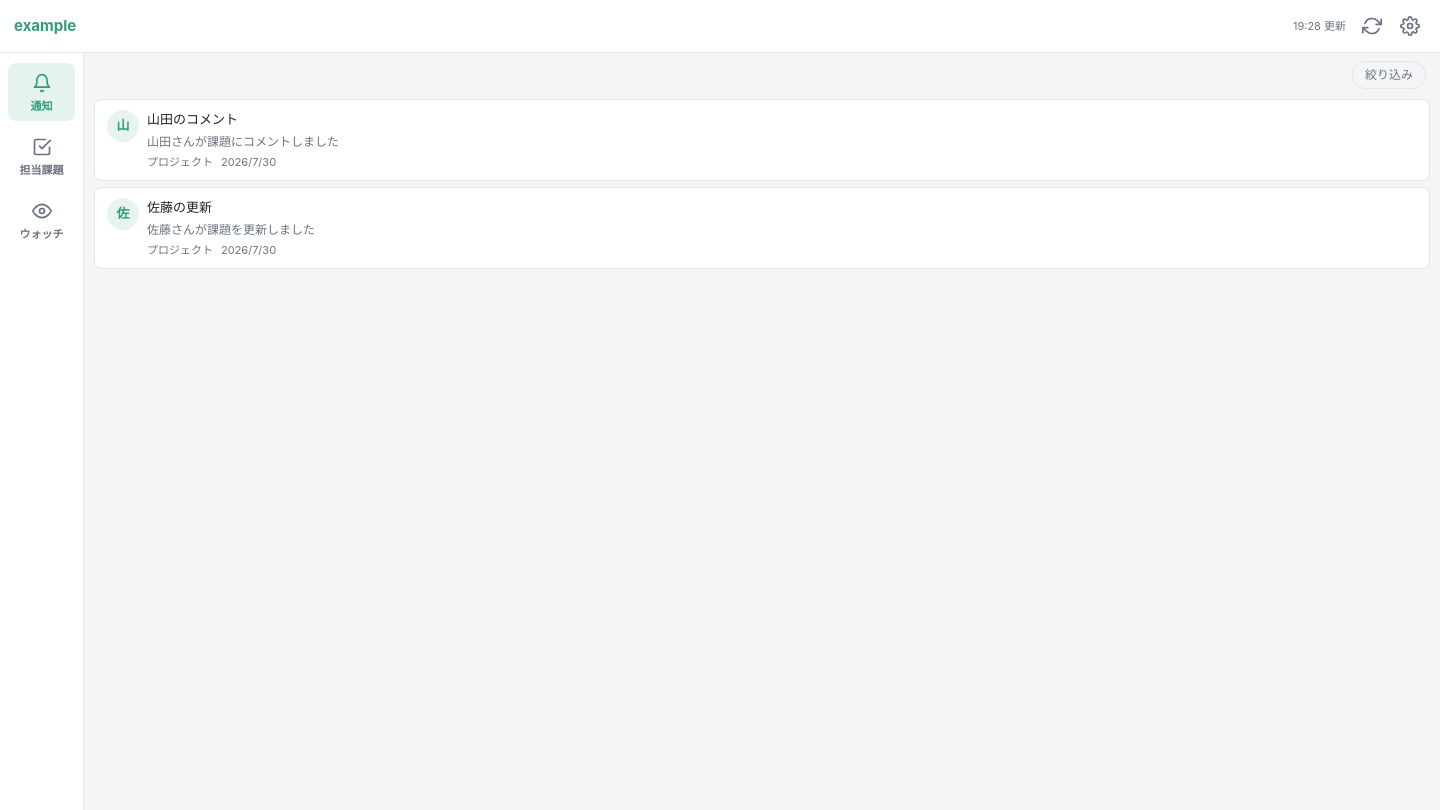
Test: App の通知の絞り込み › 選んだ送信者が一覧から消えても絞り込みが解除されない
The width and height of the screenshot is (1440, 810).
Click the button "絞り込み" at [1389, 75], box [1352,61,1426,89]
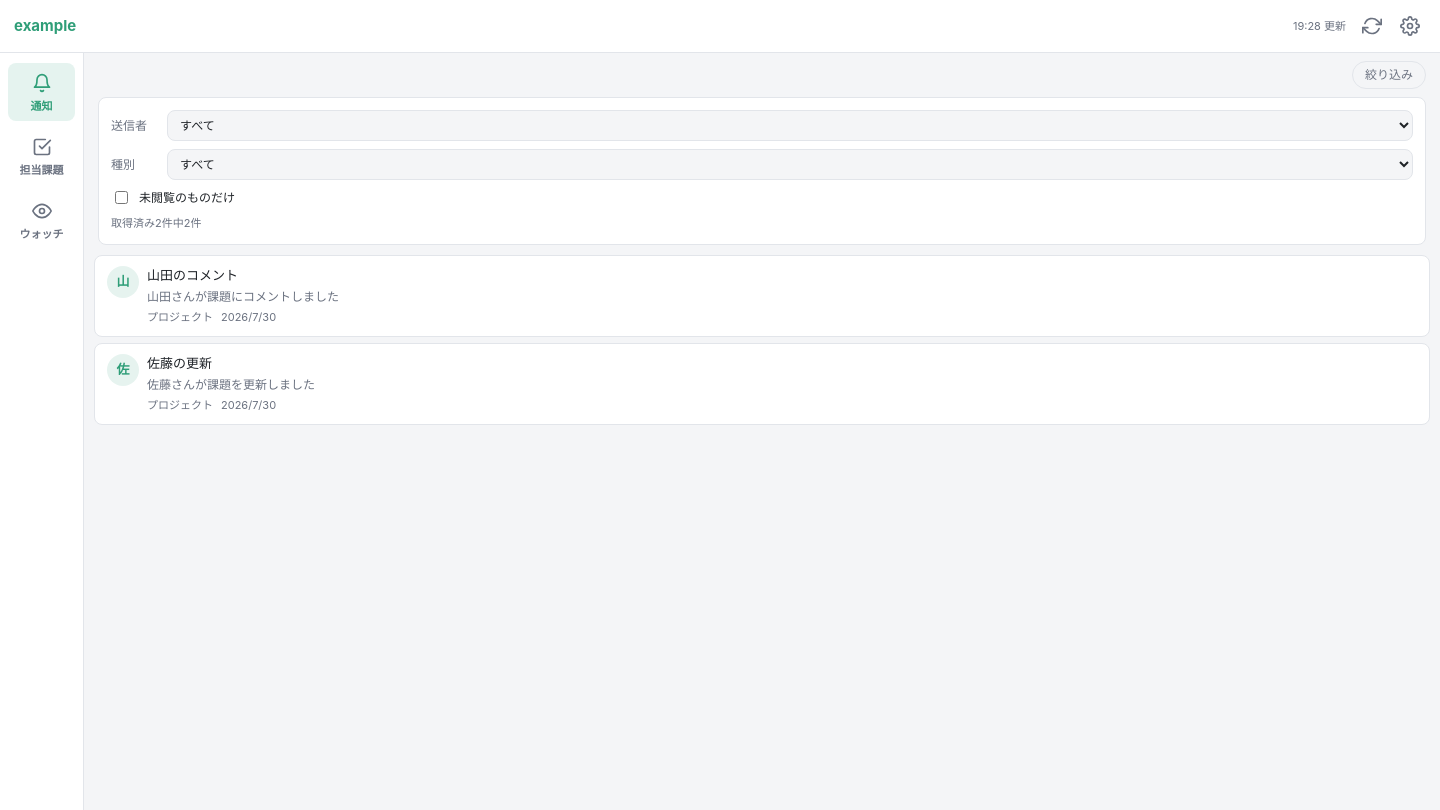
Select "山田" in the dropdown labelled "送信者" at [790, 126], box [167,110,1413,141]
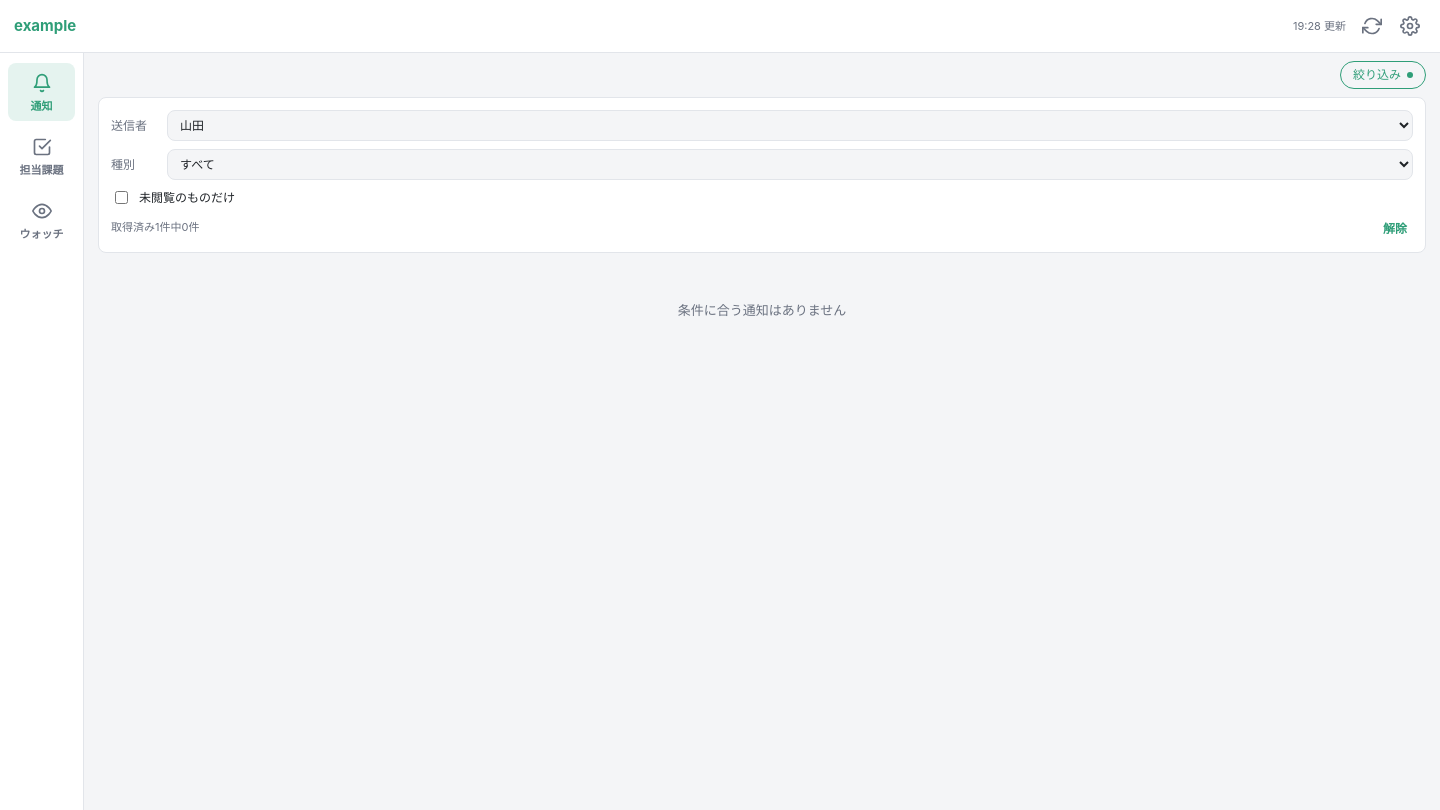
Expected: the button "佐藤の更新" is gone
Expected: the text "条件に合う通知はありません" is shown, [678,302,846,318]
